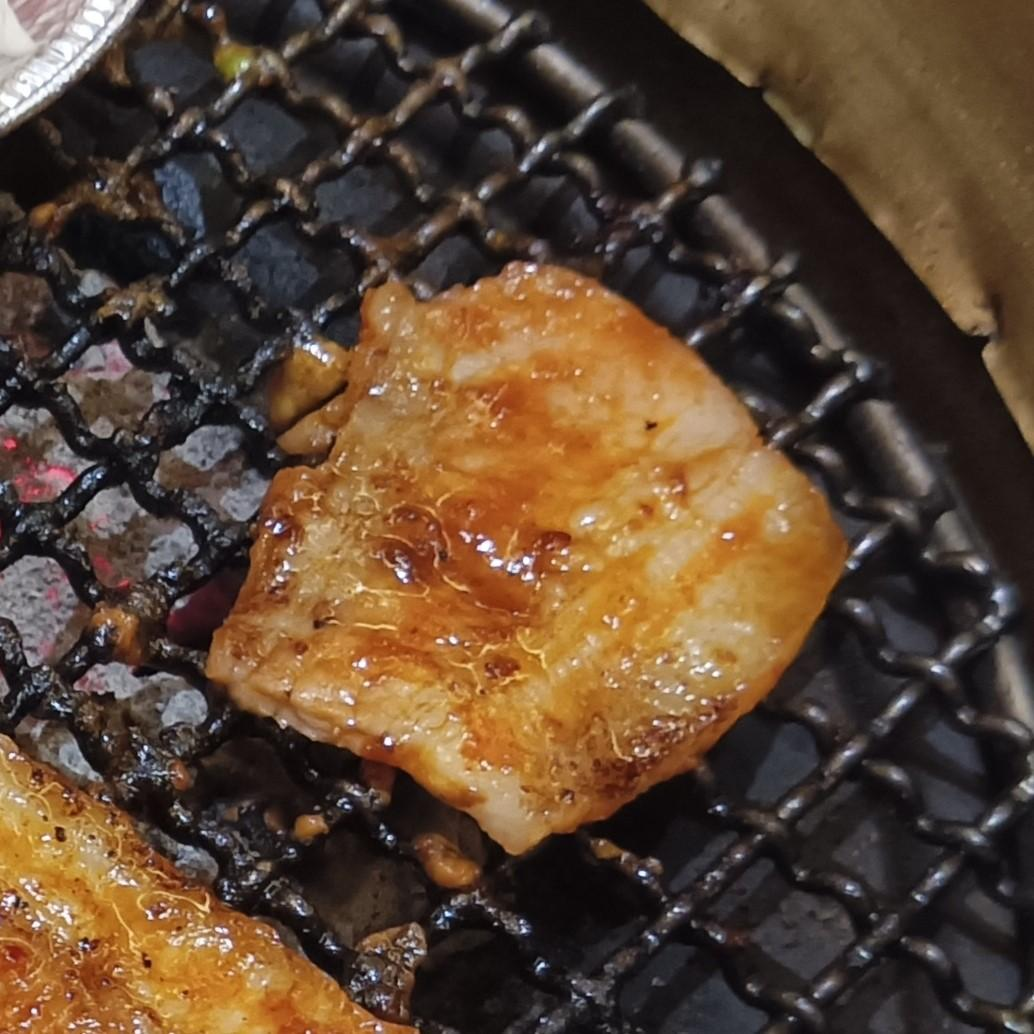Well-Cooked: (202, 264, 849, 858), (0, 738, 412, 1033)
